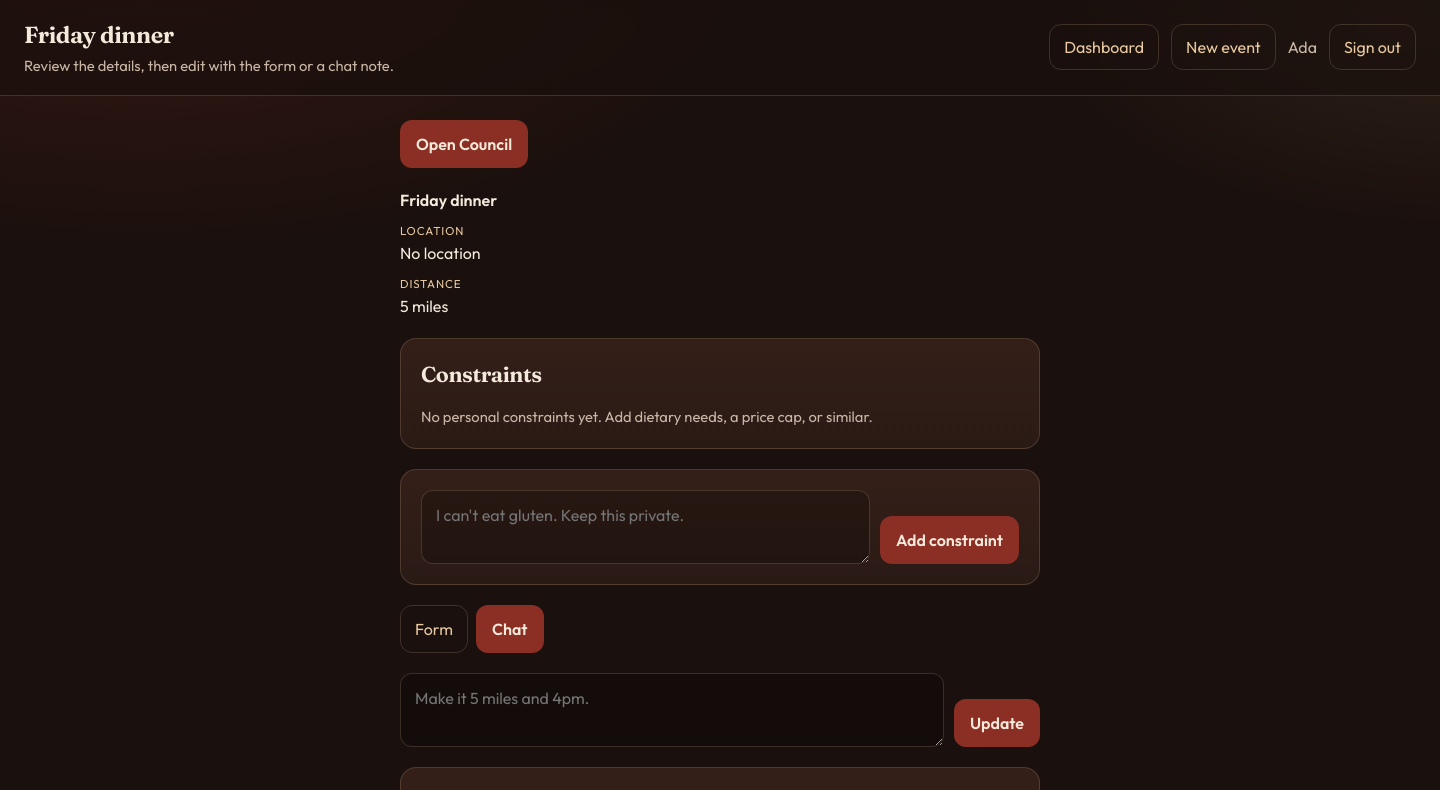
Test case: sign-out navigation › returns to / so the next login opens the dashboard instead of the leftover event URL
The width and height of the screenshot is (1440, 790).
expect the heading "Friday dinner" is shown: met, box x1=24 y1=20 x2=174 y2=49
Click the button "Sign out": (1372, 47) x1=1329 y1=24 x2=1416 y2=70
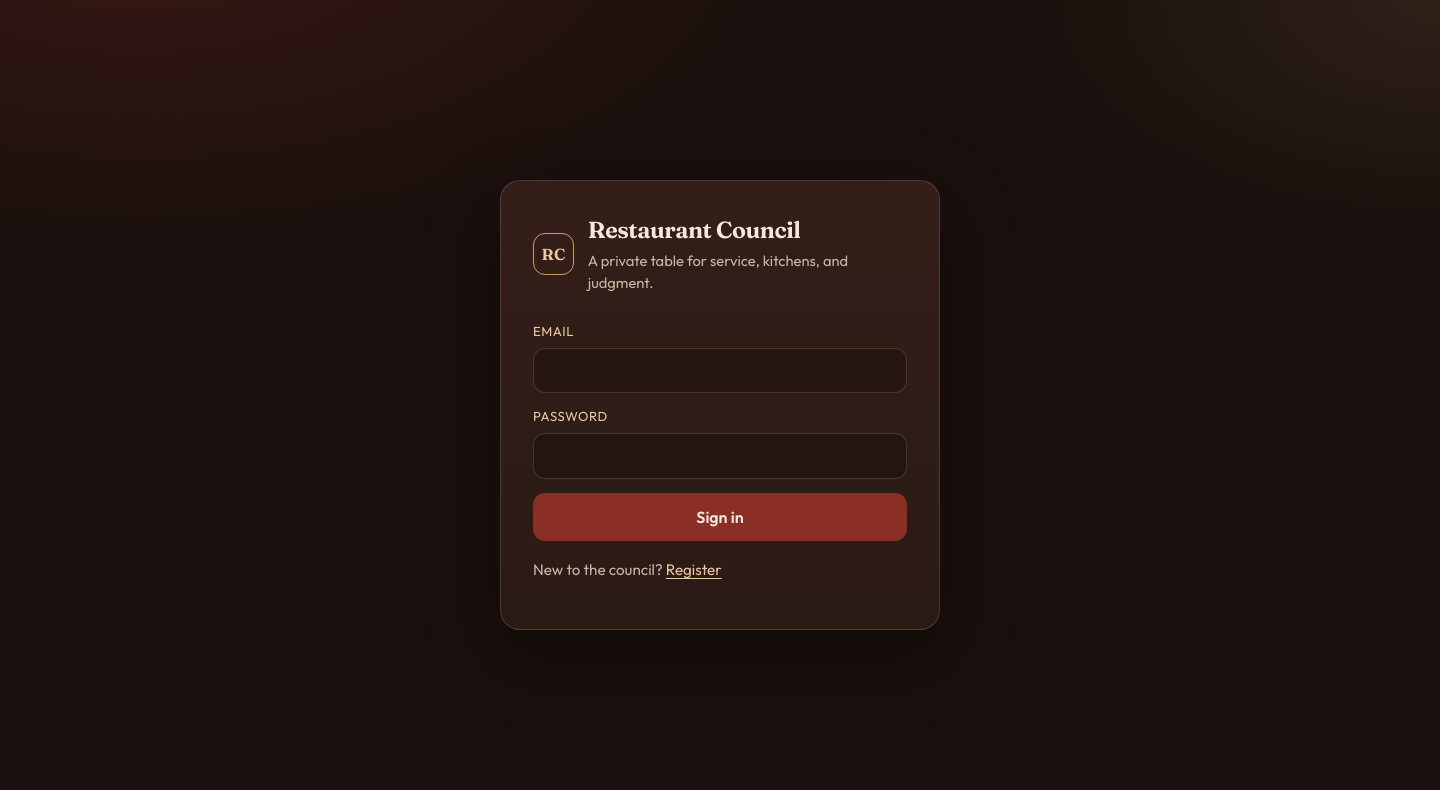
expect the button "Sign in" is shown: met, box x1=533 y1=493 x2=907 y2=541
expect the heading "Friday dinner" is gone: met
In the field labelled "Email": (720, 371) x1=533 y1=348 x2=907 y2=394, type "ada@example.com"
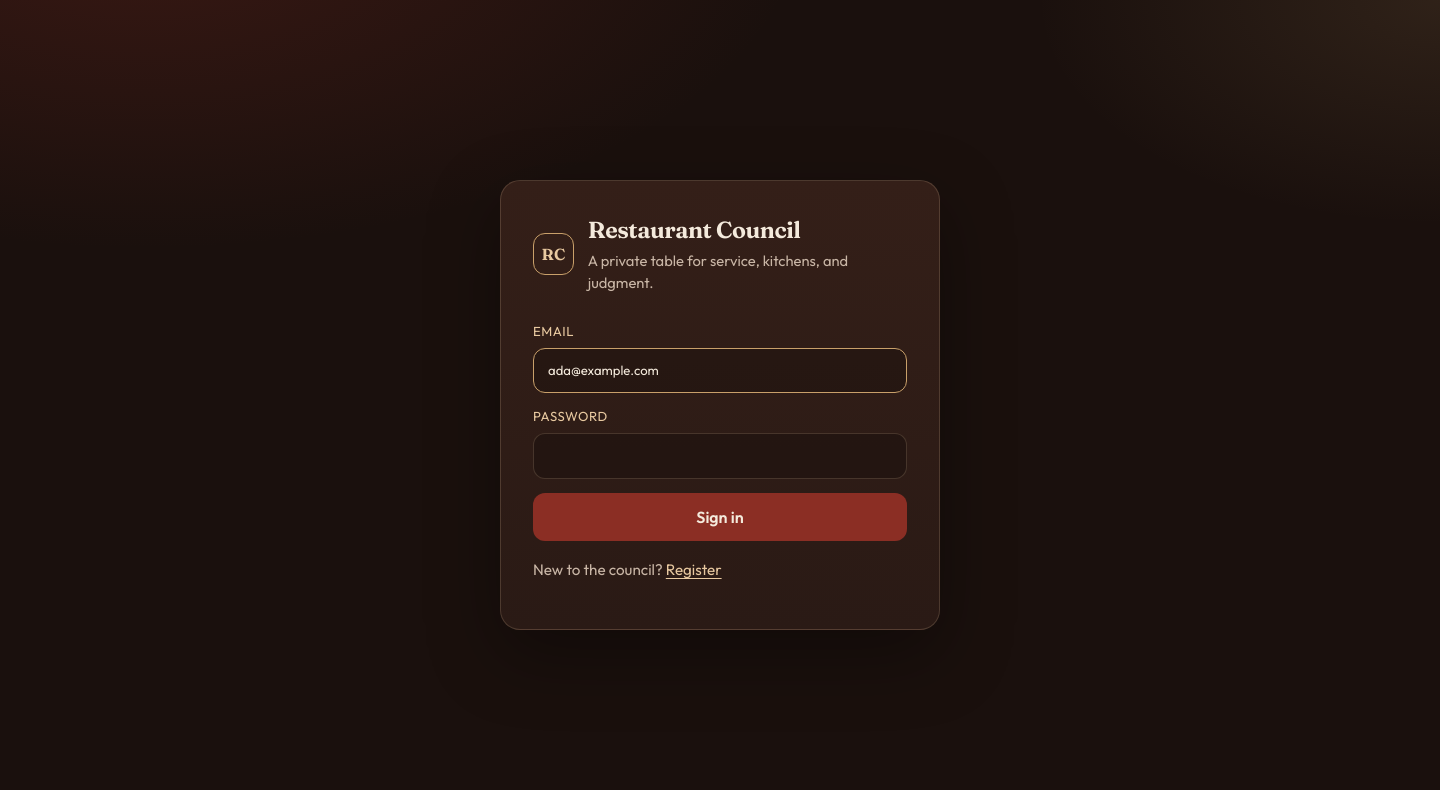
In the password field labelled "Password": (720, 456) x1=533 y1=433 x2=907 y2=479, type "password1"
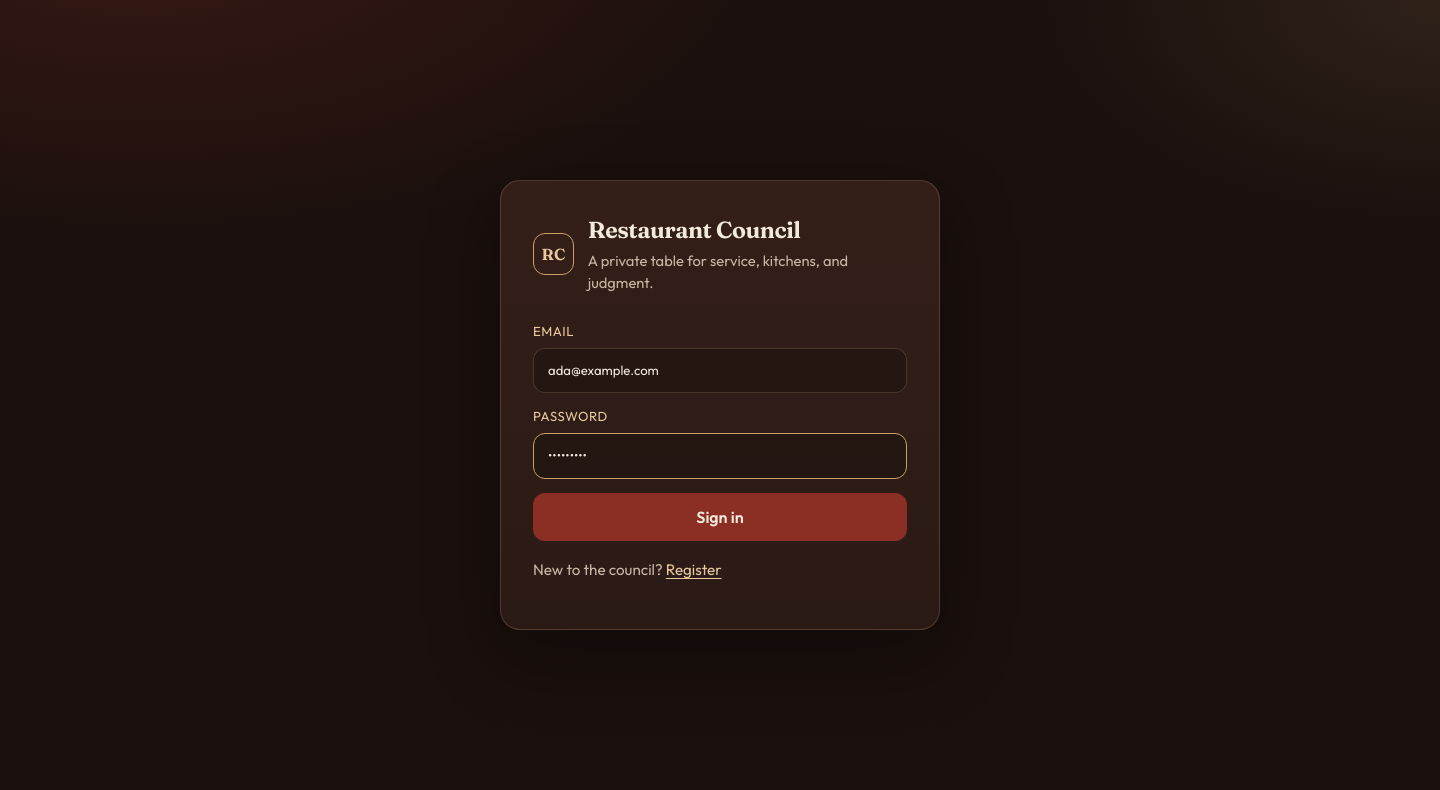
Click the button "Sign in": (720, 517) x1=533 y1=493 x2=907 y2=541
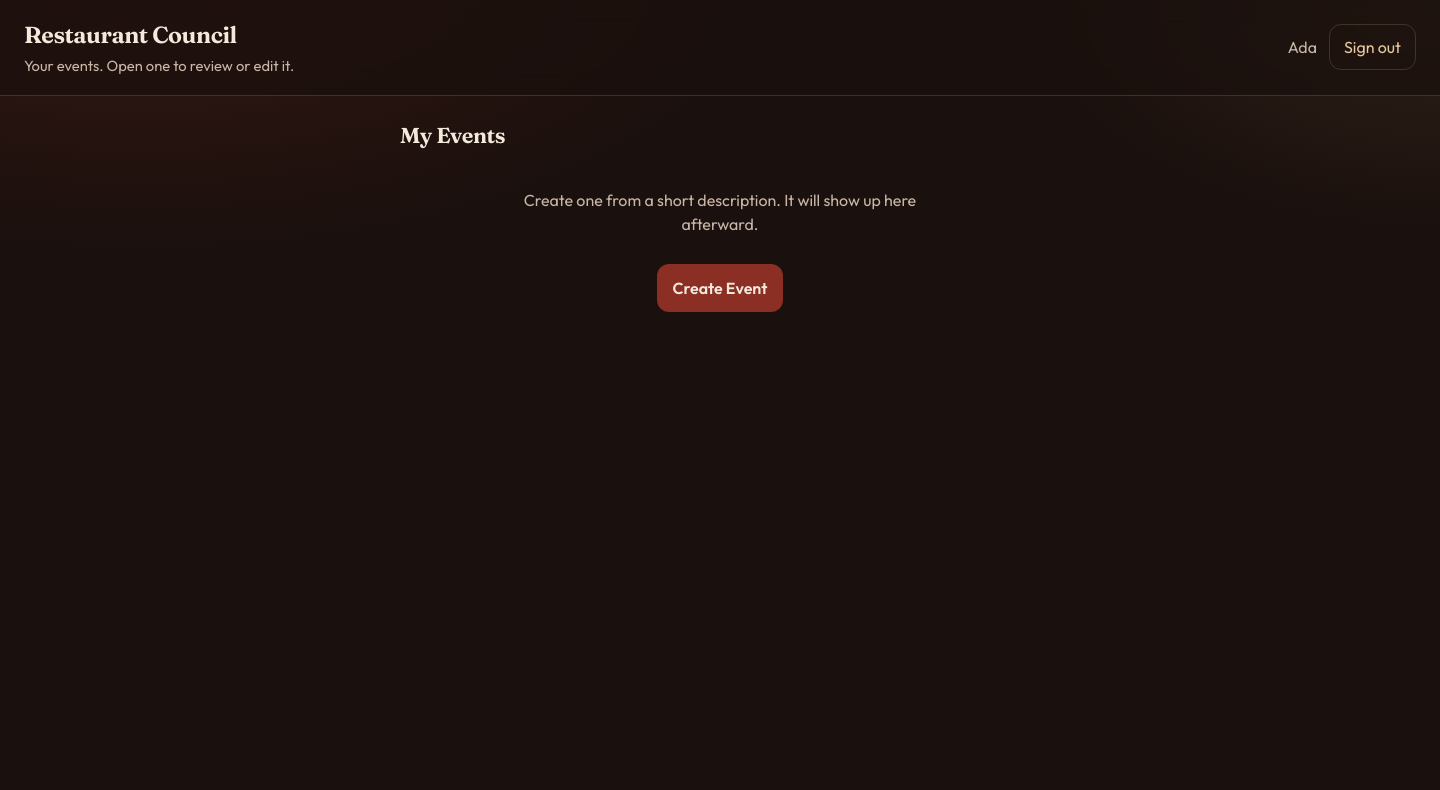
expect the heading "Friday dinner" is not shown: met
expect the text "Your events. Open one to review or edit it." is shown: met, box x1=24 y1=55 x2=294 y2=77
